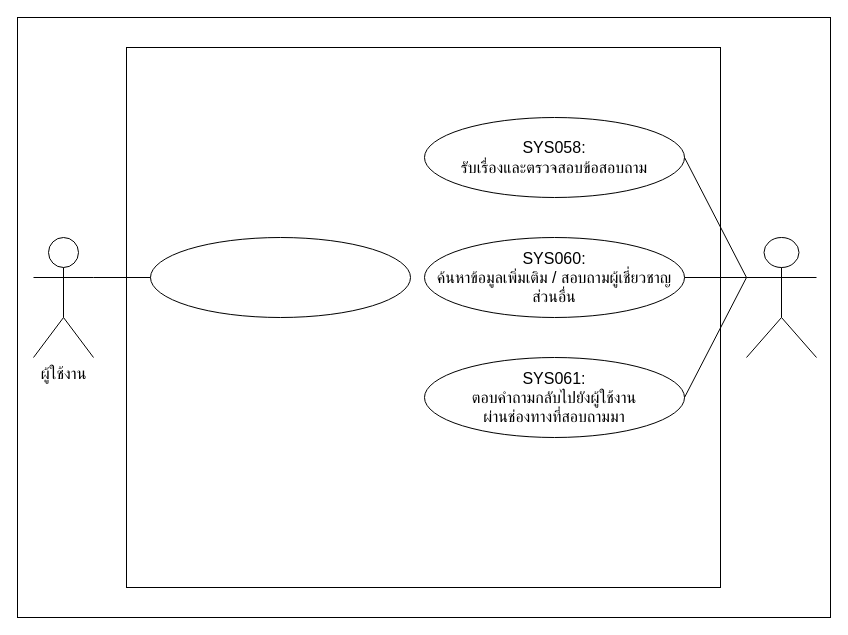
Some shapes in this 848 by 635 pixel diagram are drawn without their labels. The shapes that lost their labels are listed below. From the top down, each one's centre as x and y in pixels, then its label:
At (280,277): "SYS059: สอบถามข้อสงสัยผ่านช่องทางต่างๆ (โทรศัพท์/Line/อีเมล)".
At (781,297): "เจ้าหน้าที่ IT".
